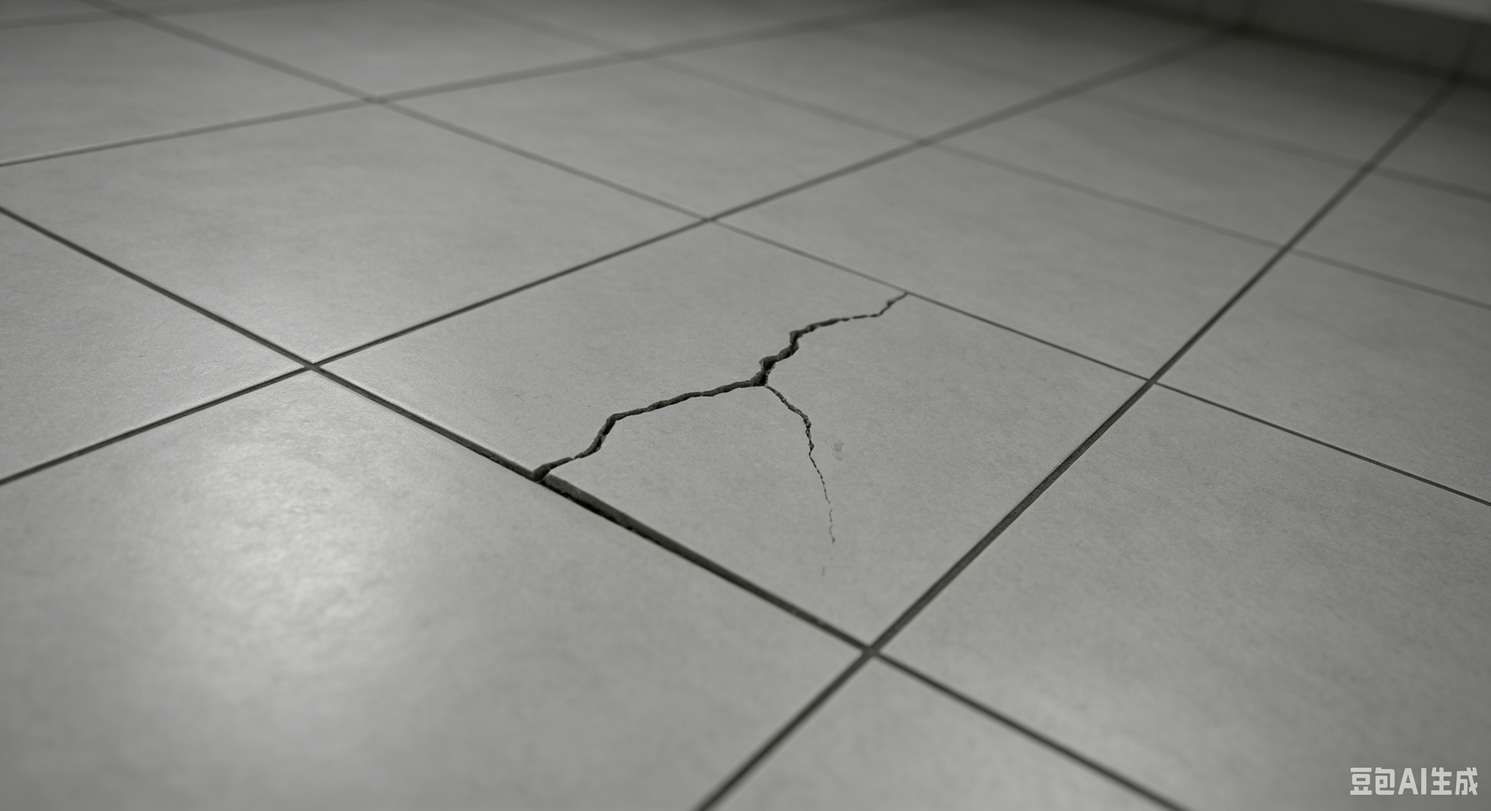floor_defect: (434, 413, 666, 536), (757, 388, 845, 548), (603, 361, 761, 435), (735, 300, 848, 395), (850, 279, 905, 354)
